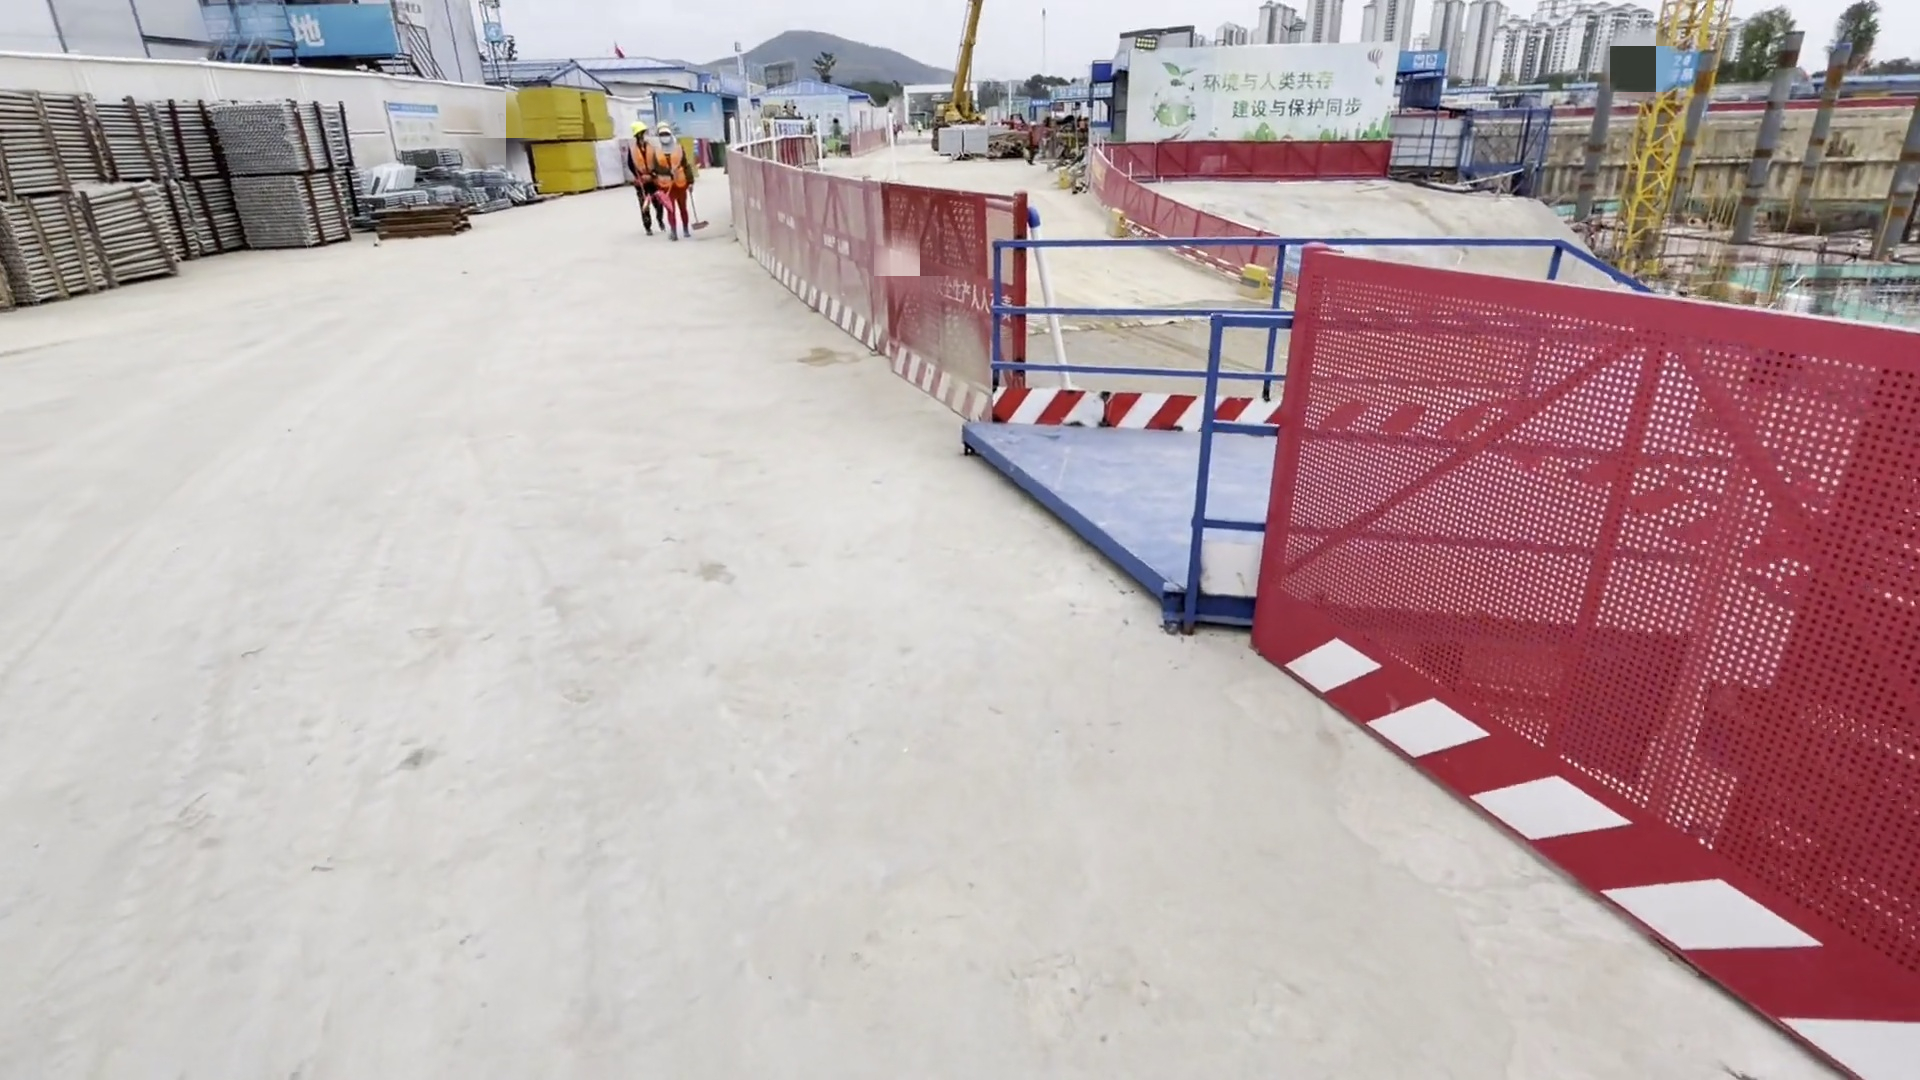fence: (1241, 242, 1897, 1072), (725, 135, 1036, 444)
helmet: (652, 120, 671, 146), (625, 122, 647, 138)
person: (623, 118, 695, 240)
scaffold: (2, 77, 362, 320)
vest: (655, 142, 692, 201), (621, 149, 658, 194)
